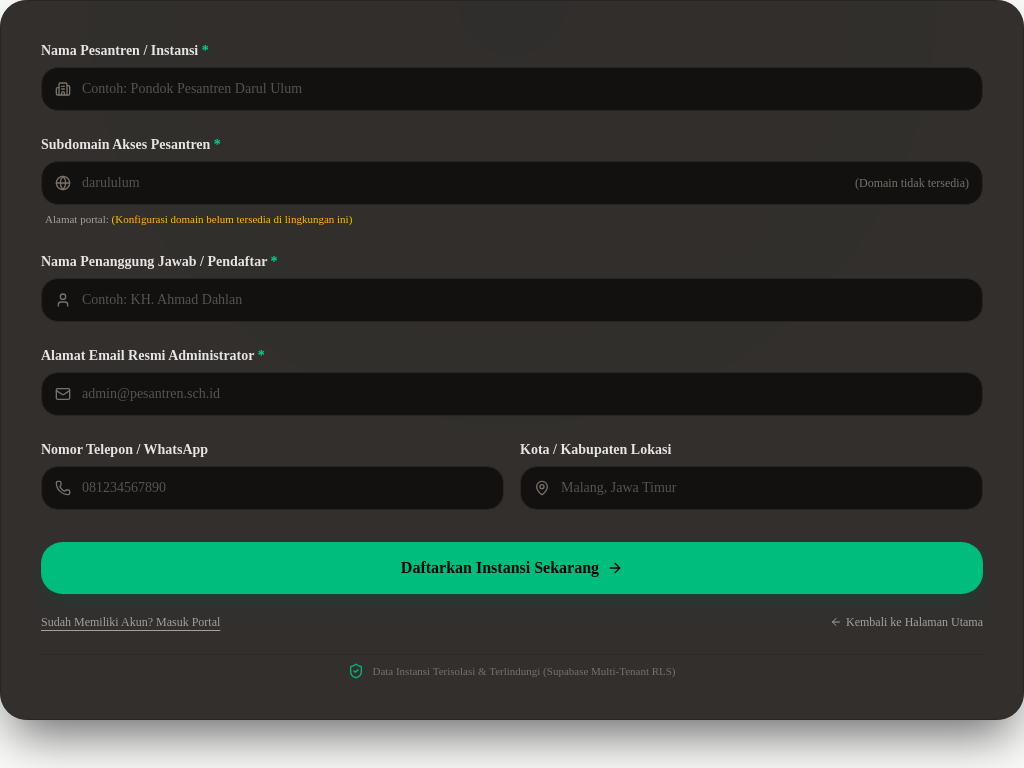
WP-SAAS-REGISTRATION-IMPLEMENTATION-001 — Mobile-First Registration UI Tests › 5. Successfully submits form and renders Onboarding Success State without secret leakage
Type "Pesantren Al-Hikmah" into the field labelled "Nama Pesantren / Instansi *" at [512, 89], box 41,67 -> 983,111
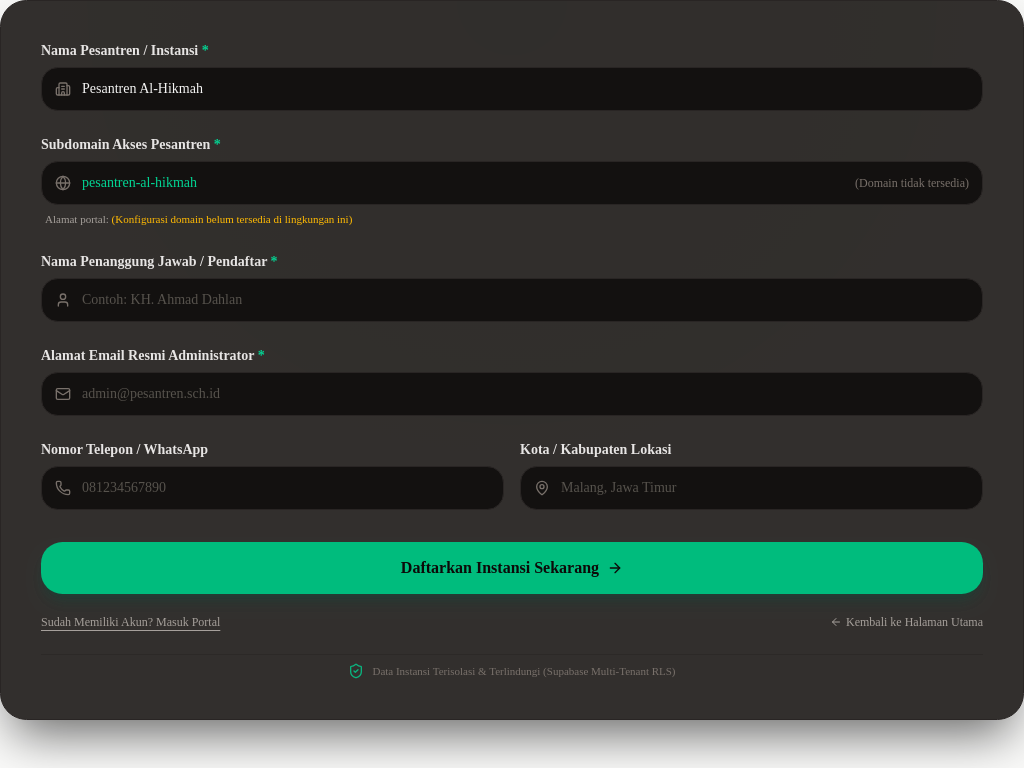
Replace the text in the field labelled "Subdomain Akses Pesantren *" with "alhikmah" at [512, 183], box 41,161 -> 983,205
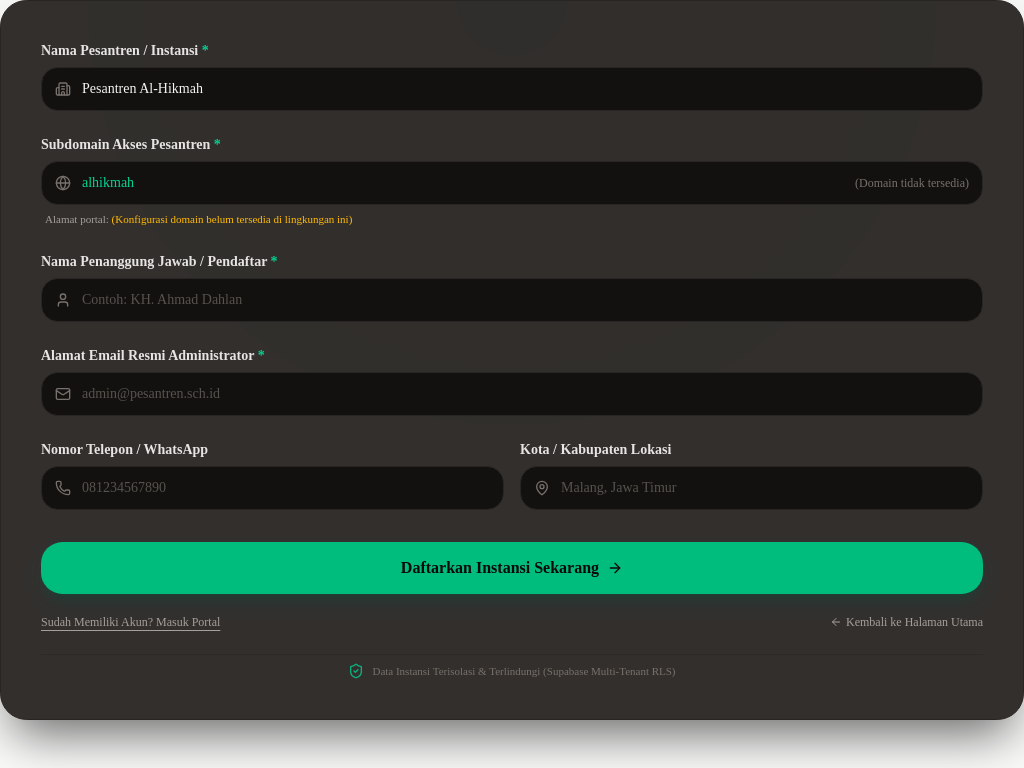
Type "Ustadz Ahmad" into the field labelled "Nama Penanggung Jawab / Pendaftar *" at [512, 300], box 41,278 -> 983,322
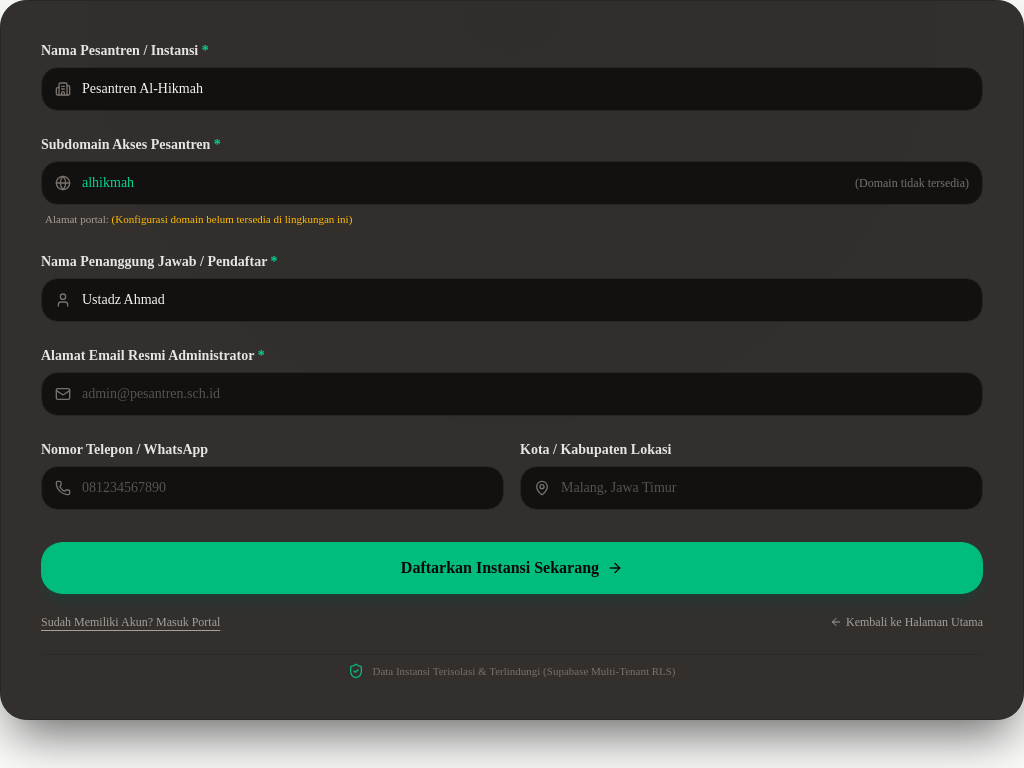
Type "admin@alhikmah.sch.id" into the field labelled "Alamat Email Resmi Administrator *" at [512, 394], box 41,372 -> 983,416
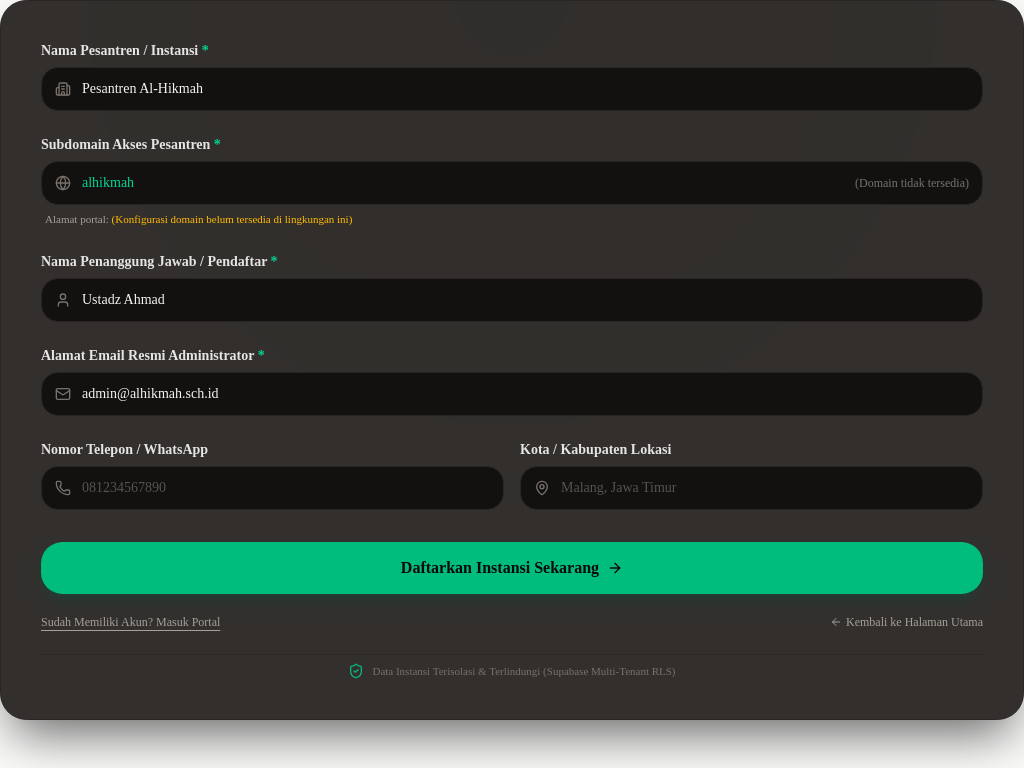
Click the button "Daftarkan Instansi Sekarang" at [512, 568], box 41,542 -> 983,594
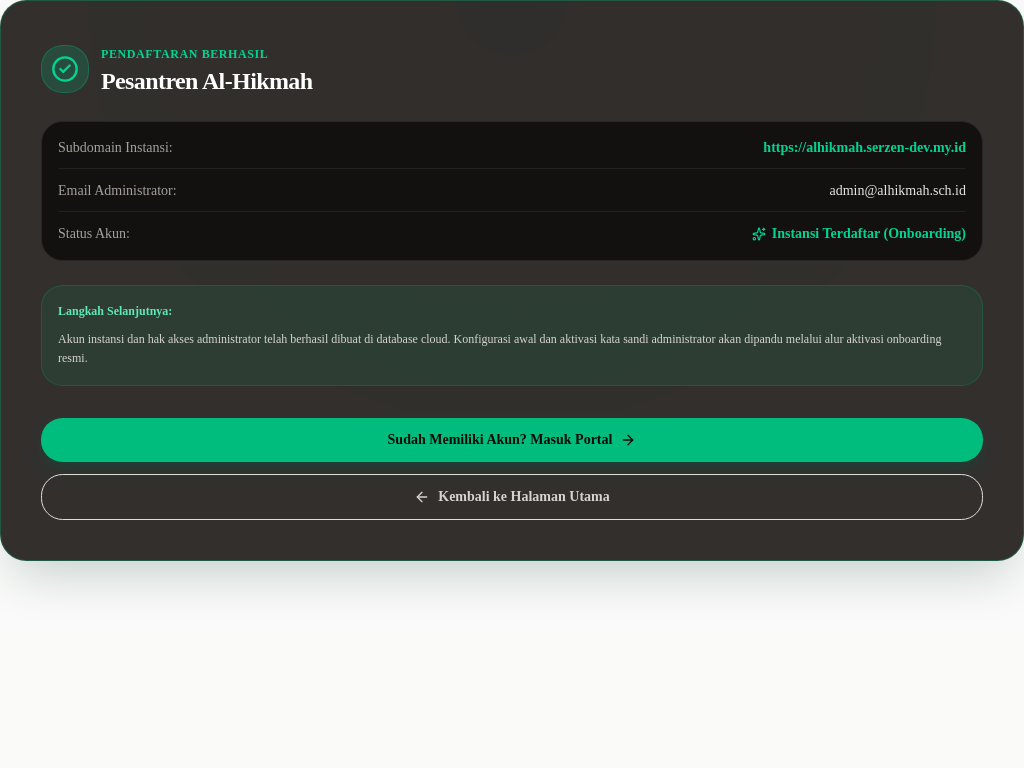
Now the text "Pendaftaran Berhasil" is shown, box 101,47 -> 268,61
Now the heading "Pesantren Al-Hikmah" is shown, box 101,65 -> 312,97
Now the text "https://alhikmah.serzen-dev.my.id" is shown, box 763,138 -> 966,158
